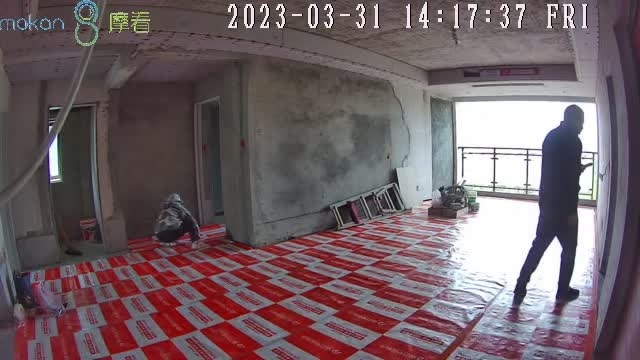people: (514, 104, 584, 302)
window: (454, 102, 600, 202)
